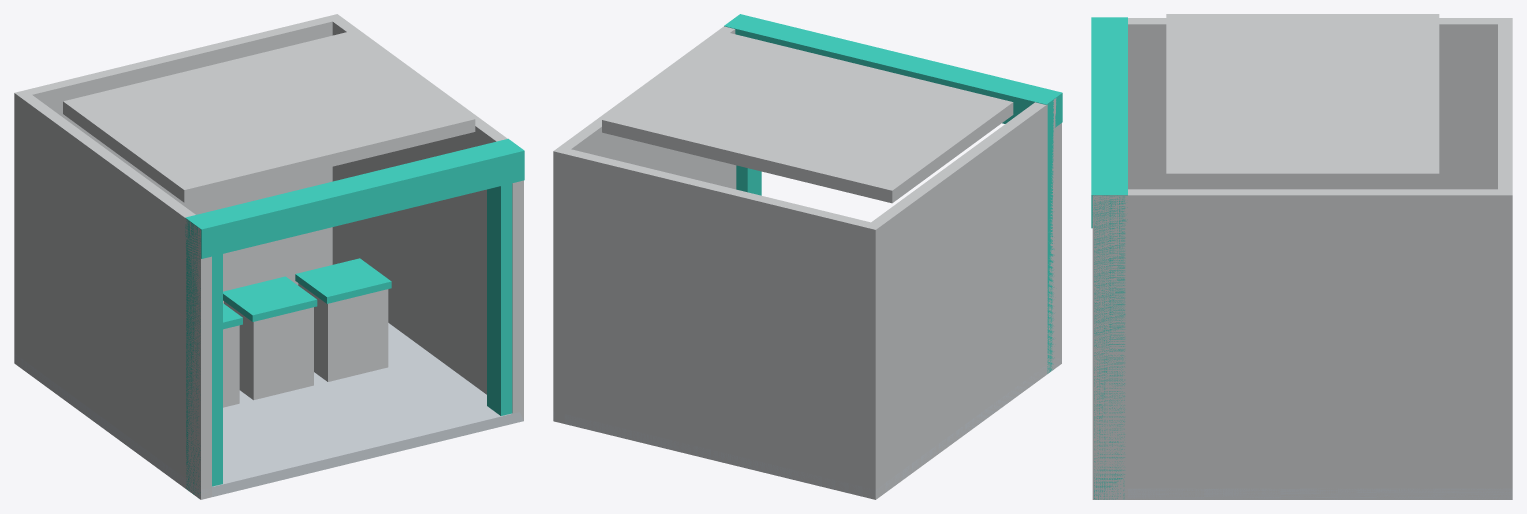
The picture shows the model from 3 angles, left to right: view 1: azimuth 30°, elevation 25°; view 2: azimuth 150°, elevation 25°; view 3: azimuth 270°, elevation 25°; orthographic projection. The views are drawn at different scales.
Visible parts, largest first — view 1: Exhibition Booth Concept; view 2: Exhibition Booth Concept; view 3: Exhibition Booth Concept.
Part boxes in pixels (x1=…): Exhibition Booth Concept: x1=14, y1=14, x2=524, y2=499; Exhibition Booth Concept: x1=553, y1=14, x2=1062, y2=499; Exhibition Booth Concept: x1=1091, y1=14, x2=1512, y2=499.
Size of the model in its own units: 4 by 3.34 by 4.02.
